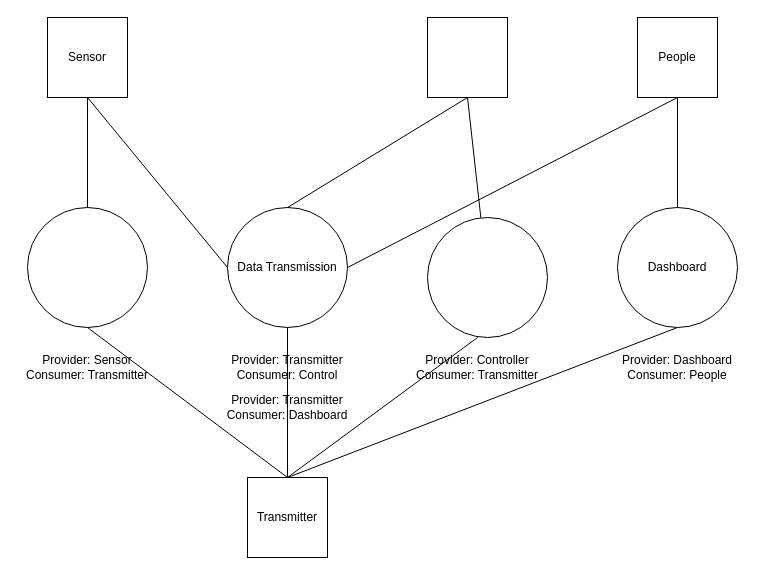
This 769x575 diagram has some shape labels left out. The centre of each missing label's shape, as x and y in pixels:
"Control" belongs at pixel 487 277.
"Controller" belongs at pixel 467 57.
"Sensing" belongs at pixel 87 267.
